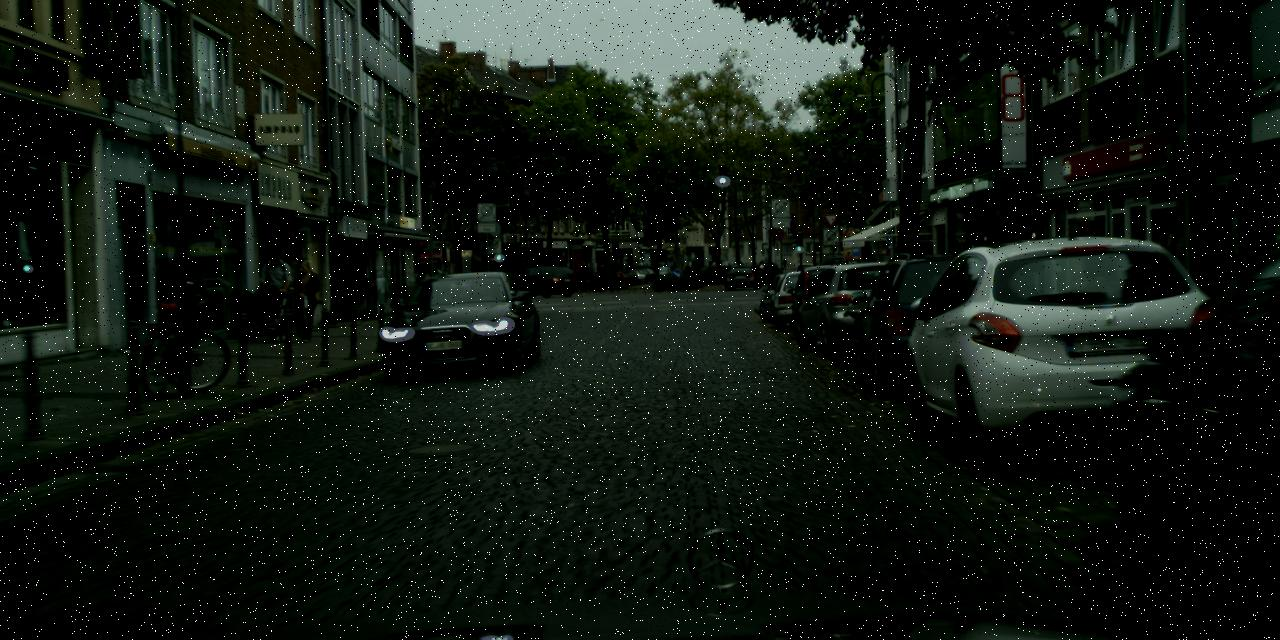ped: (256, 249, 293, 339), (287, 258, 321, 342), (427, 264, 444, 308), (598, 263, 608, 291), (612, 262, 619, 281), (782, 258, 787, 268)
